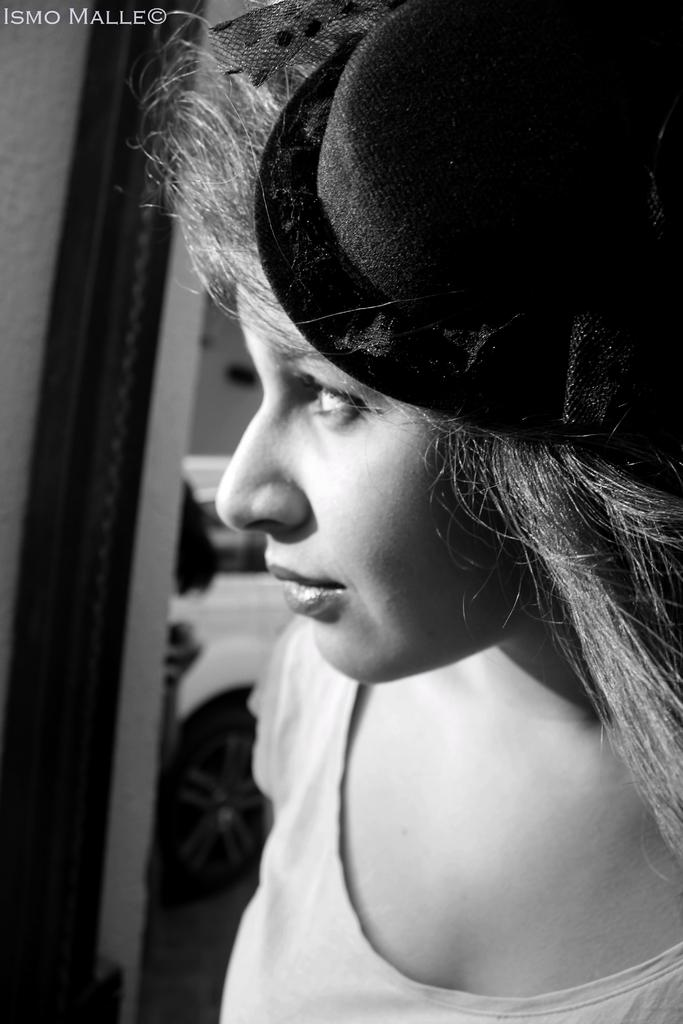Hat: (255, 0, 682, 455)
